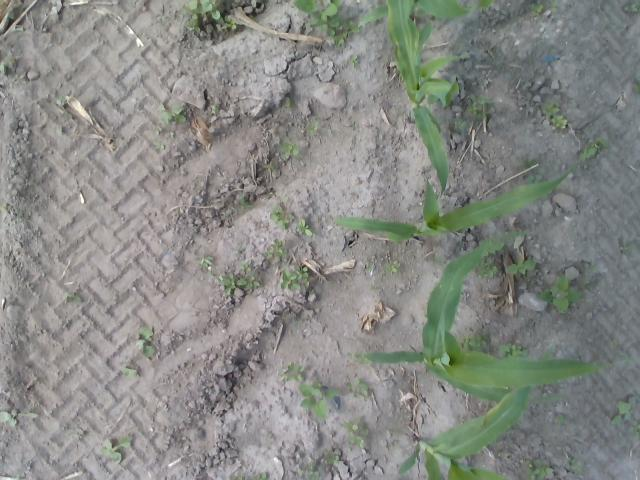Maize: (358, 230, 626, 404), (334, 148, 596, 243), (396, 346, 558, 480), (384, 0, 470, 205), (358, 0, 498, 29)
Weeds: (292, 0, 359, 49), (536, 274, 580, 314), (298, 380, 338, 419), (218, 260, 260, 296), (182, 0, 216, 33), (341, 416, 369, 452), (100, 435, 134, 464), (454, 330, 492, 354), (539, 99, 568, 130), (268, 198, 296, 230), (518, 154, 546, 186), (464, 92, 494, 121), (280, 266, 310, 290), (522, 458, 554, 480), (135, 326, 156, 358), (578, 137, 608, 159), (157, 104, 188, 125), (610, 396, 633, 424), (210, 8, 237, 30), (277, 362, 305, 382), (505, 258, 536, 276), (344, 377, 368, 400), (153, 125, 175, 149), (496, 342, 528, 358), (264, 238, 286, 261), (475, 256, 497, 278), (297, 460, 318, 480), (445, 117, 468, 134), (346, 350, 372, 364), (278, 140, 298, 158), (564, 456, 583, 474), (229, 471, 267, 480), (236, 191, 253, 211), (0, 54, 16, 75), (296, 218, 313, 237), (320, 450, 340, 466), (0, 410, 18, 426), (627, 419, 640, 439), (624, 0, 640, 15), (196, 255, 213, 269), (530, 2, 544, 18), (424, 92, 440, 106), (306, 119, 320, 134), (120, 366, 138, 377), (384, 262, 400, 273), (65, 293, 82, 303), (348, 54, 358, 67), (585, 261, 598, 271), (554, 414, 566, 424), (580, 278, 590, 290), (548, 0, 558, 11), (262, 162, 275, 170), (633, 80, 640, 94), (56, 95, 66, 104), (367, 262, 376, 270), (496, 450, 507, 456), (284, 96, 290, 107), (212, 103, 218, 114), (432, 257, 440, 264), (371, 285, 380, 291), (162, 15, 168, 22), (350, 120, 354, 126)
